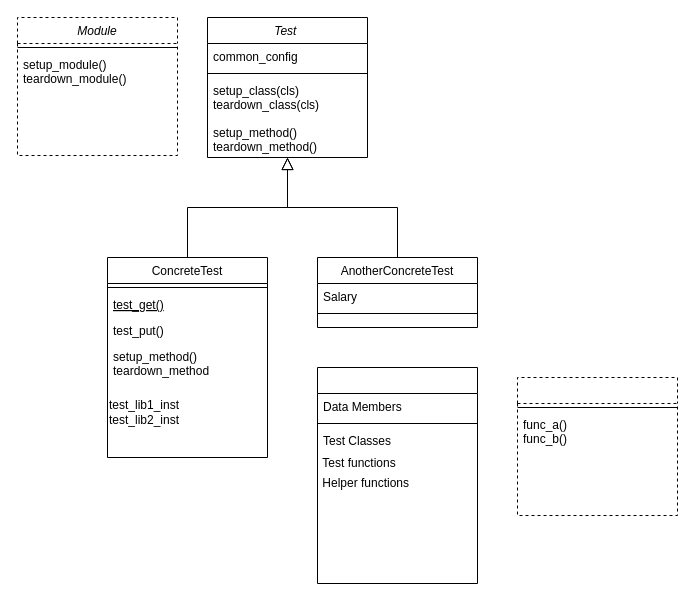
The diagram is 695 pixels wide and 601 high, and some of its shapes have lost their labels. Each missing label, with the box of its shape:
TestLib: (316, 366, 478, 584)
Utilities: (516, 376, 678, 516)
